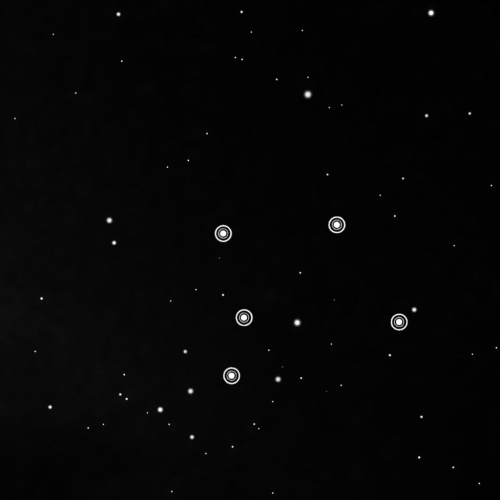libra: (211, 211, 412, 389)
